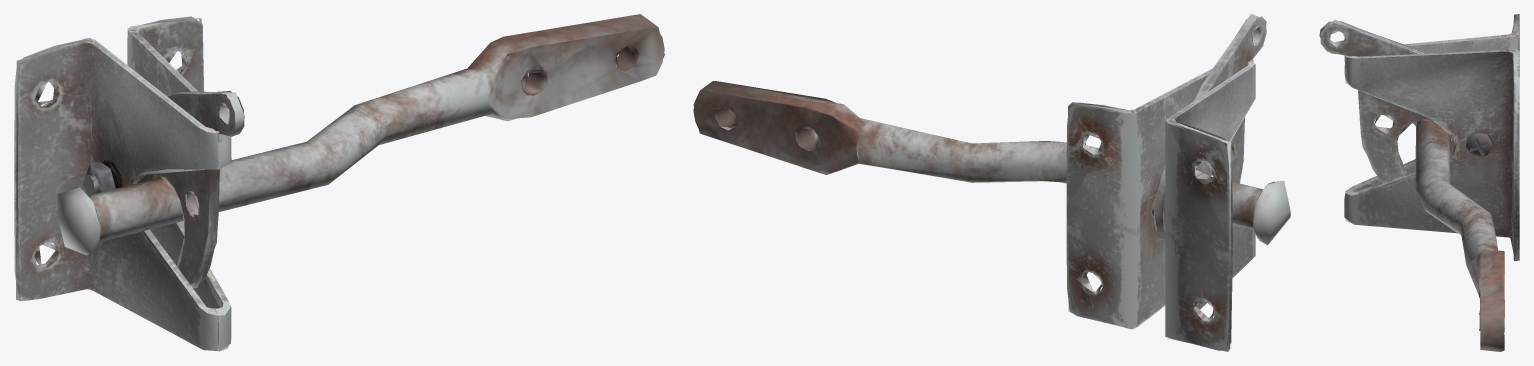
Rendered from gate_latch_01.glb.
3 renders of one model, left to right at view 1: azimuth 30°, elevation 25°; view 2: azimuth 150°, elevation 25°; view 3: azimuth 270°, elevation 25°, orthographic. The views are drawn at different scales.
Parts seen in each view (by area): view 1: gate_latch_01; view 2: gate_latch_01; view 3: gate_latch_01.
Boxes of the visible parts, x1,y1,x2,y2 form: gate_latch_01: (14,14,664,351); gate_latch_01: (693,14,1290,351); gate_latch_01: (1319,14,1519,351).
Size of the model in its own units: 0.2054 by 0.086 by 0.075.
1 material, 1 textured.
